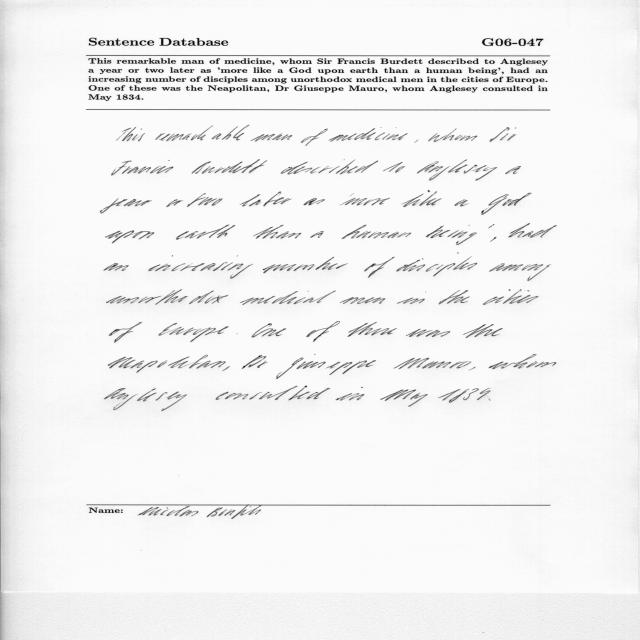word: (148, 255, 253, 279), (276, 354, 376, 379), (108, 355, 226, 373), (107, 289, 229, 305), (104, 388, 187, 411), (396, 253, 477, 276), (417, 159, 497, 181), (216, 386, 330, 400), (155, 125, 250, 141), (281, 160, 378, 175), (263, 257, 348, 273), (240, 291, 336, 305), (159, 323, 229, 342), (329, 127, 408, 142), (192, 159, 268, 174), (481, 193, 532, 215), (489, 263, 550, 281), (426, 225, 477, 245), (489, 355, 557, 370), (112, 160, 174, 176), (342, 225, 411, 239), (483, 289, 539, 305), (176, 225, 235, 240), (394, 358, 472, 369), (381, 389, 428, 407), (438, 388, 491, 403), (100, 199, 152, 214), (240, 192, 292, 207), (347, 322, 397, 337), (253, 224, 302, 239), (508, 223, 557, 238), (306, 321, 340, 342), (110, 322, 143, 343), (428, 128, 477, 142), (401, 191, 442, 207), (364, 257, 395, 278), (106, 231, 155, 244), (462, 324, 503, 338), (187, 193, 222, 207), (252, 324, 287, 338), (301, 128, 328, 146), (439, 290, 470, 304), (490, 127, 517, 142), (340, 198, 390, 206), (336, 387, 365, 400), (242, 355, 268, 369), (406, 329, 450, 337), (251, 134, 293, 142), (122, 127, 145, 141), (340, 297, 385, 304), (383, 162, 405, 173), (104, 263, 129, 271), (396, 298, 425, 304), (303, 198, 325, 205), (167, 199, 184, 207), (505, 166, 521, 174), (455, 200, 469, 207), (310, 231, 324, 238), (222, 366, 230, 371), (490, 237, 496, 242), (489, 224, 495, 228), (469, 367, 476, 370), (415, 140, 419, 143), (489, 399, 491, 401), (351, 195, 353, 196), (236, 333, 238, 334)
